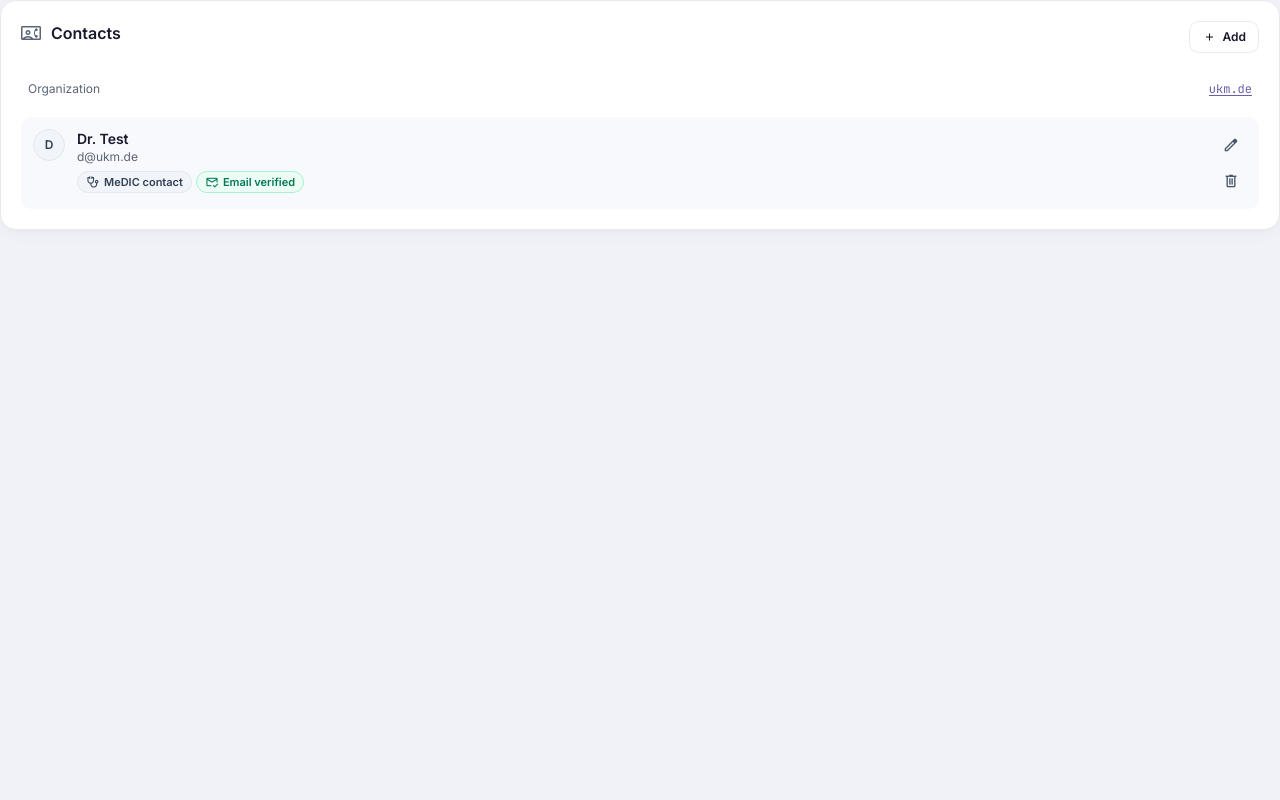
ContactsCard deletion › keeps the contact when the confirmation is cancelled
This screenshot has width=1280, height=800.
Click the button named "delete contact" at x=1231, y=181, box x1=1215 y1=165 x2=1247 y2=197
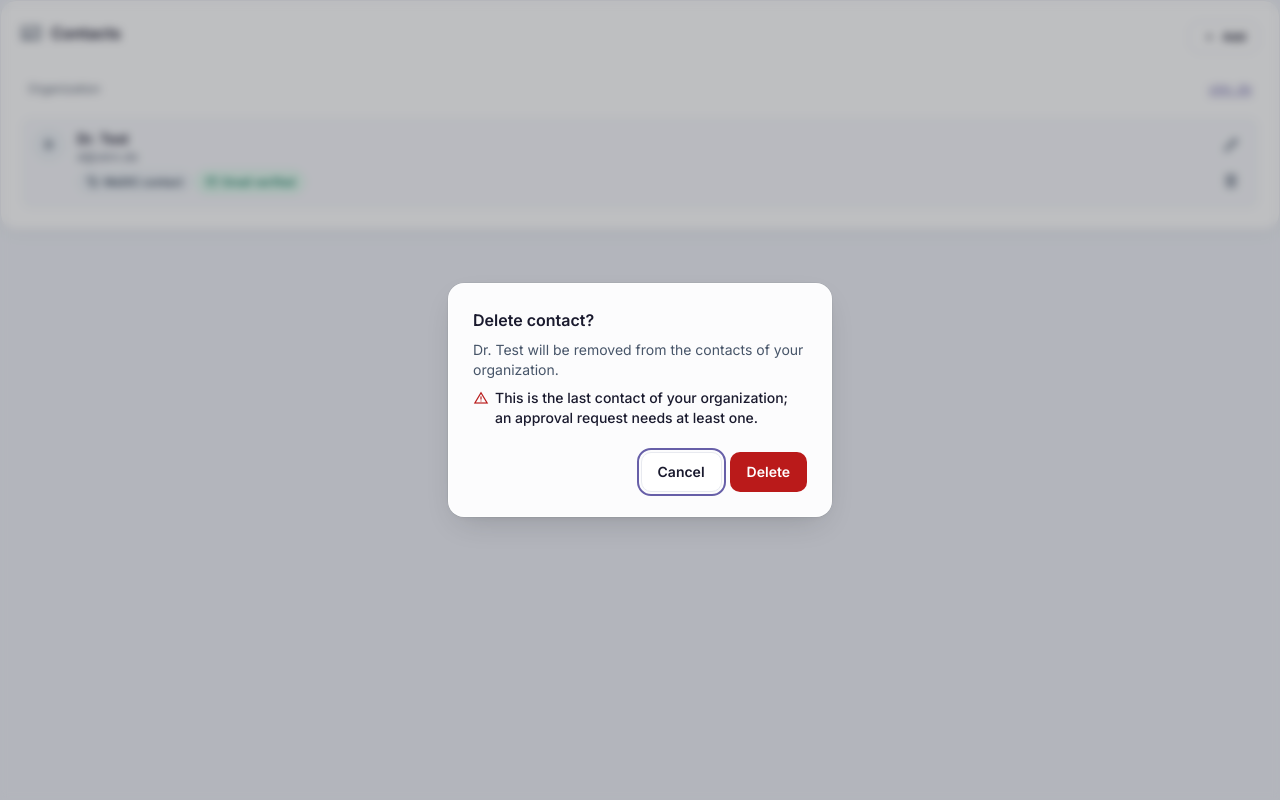
Click the button "Cancel" at x=681, y=472, box x1=640 y1=452 x2=722 y2=492
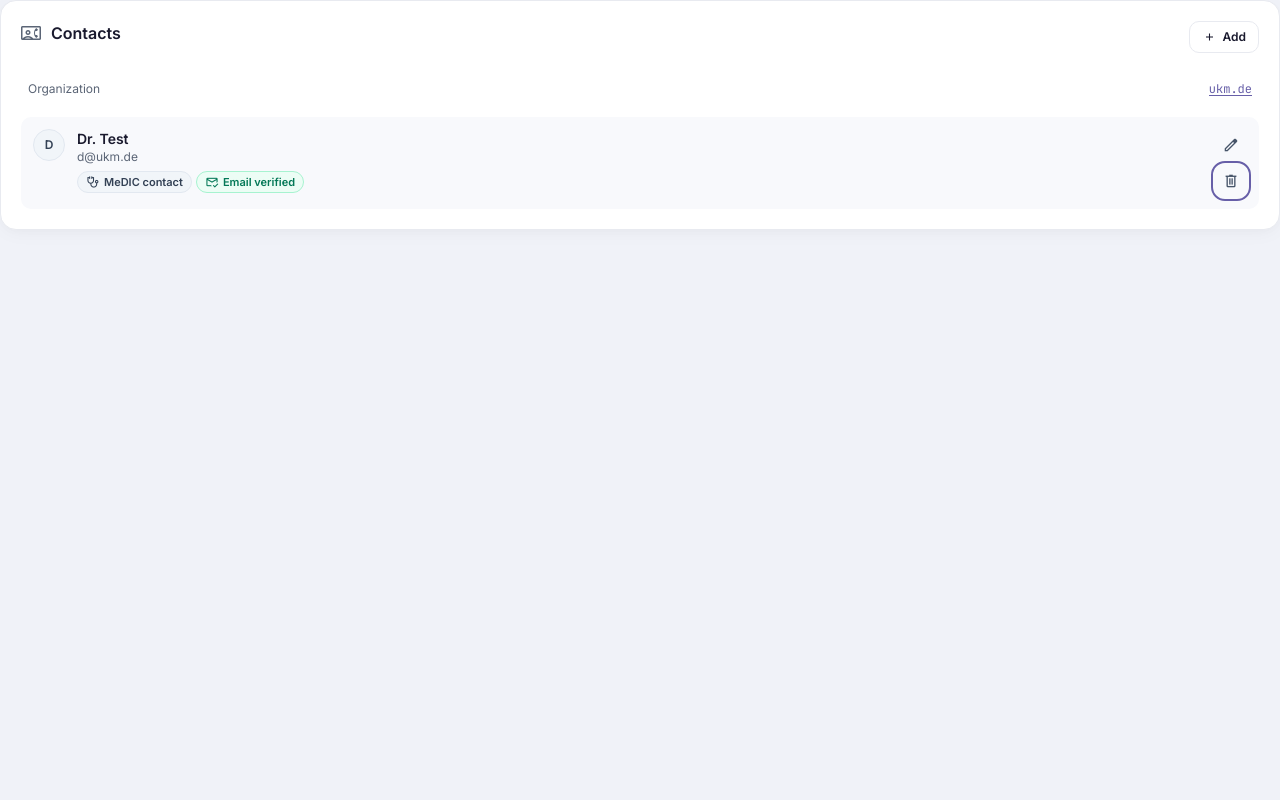
Check: the dialog is gone
